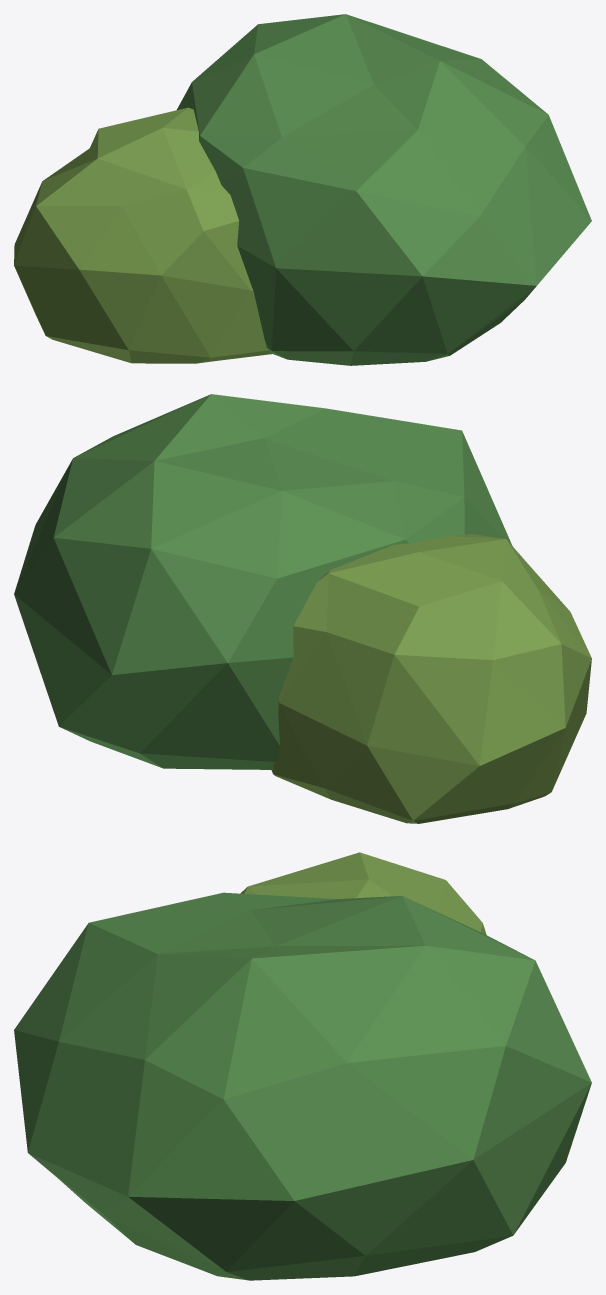
File: bush4blank.glb
The picture shows the model from 3 angles, top to bottom: view 1: azimuth 30°, elevation 25°; view 2: azimuth 150°, elevation 25°; view 3: azimuth 270°, elevation 25°; orthographic projection. The views are drawn at different scales.
Visible parts, largest first — view 1: bush, bush small; view 2: bush, bush small; view 3: bush, bush small.
Part boxes in pixels (box(x1,y1,x2,y2)): bush: box(177, 14, 591, 365); bush small: box(14, 107, 271, 363); bush: box(14, 394, 512, 769); bush small: box(270, 534, 591, 823); bush: box(14, 892, 591, 1280); bush small: box(240, 852, 486, 934).
Bounding box in the file's own units: 2.55 × 1.12 × 2.1.
